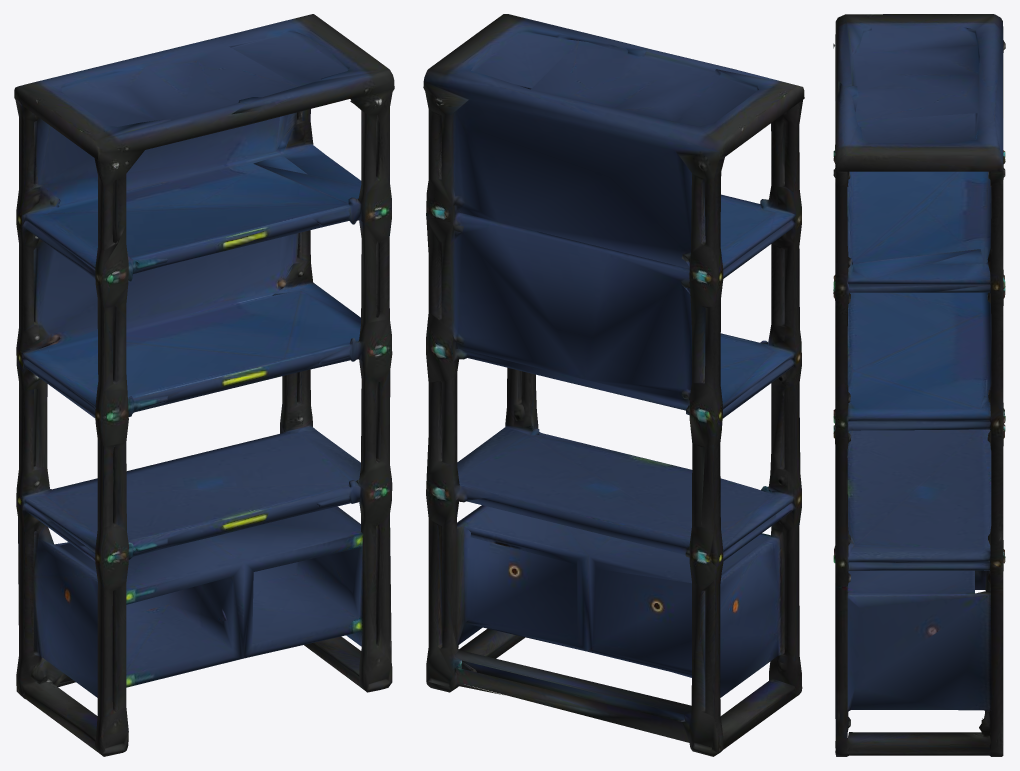
The model's file is equipment_shelf.glb.
3 views of the same model, side by side, from view 1: azimuth 30°, elevation 25°; view 2: azimuth 150°, elevation 25°; view 3: azimuth 270°, elevation 25° (orthographic).
Size of the model in its own units: 0.9598 by 1.9 by 0.4912.
Materials: 1 (1 with a texture image).
